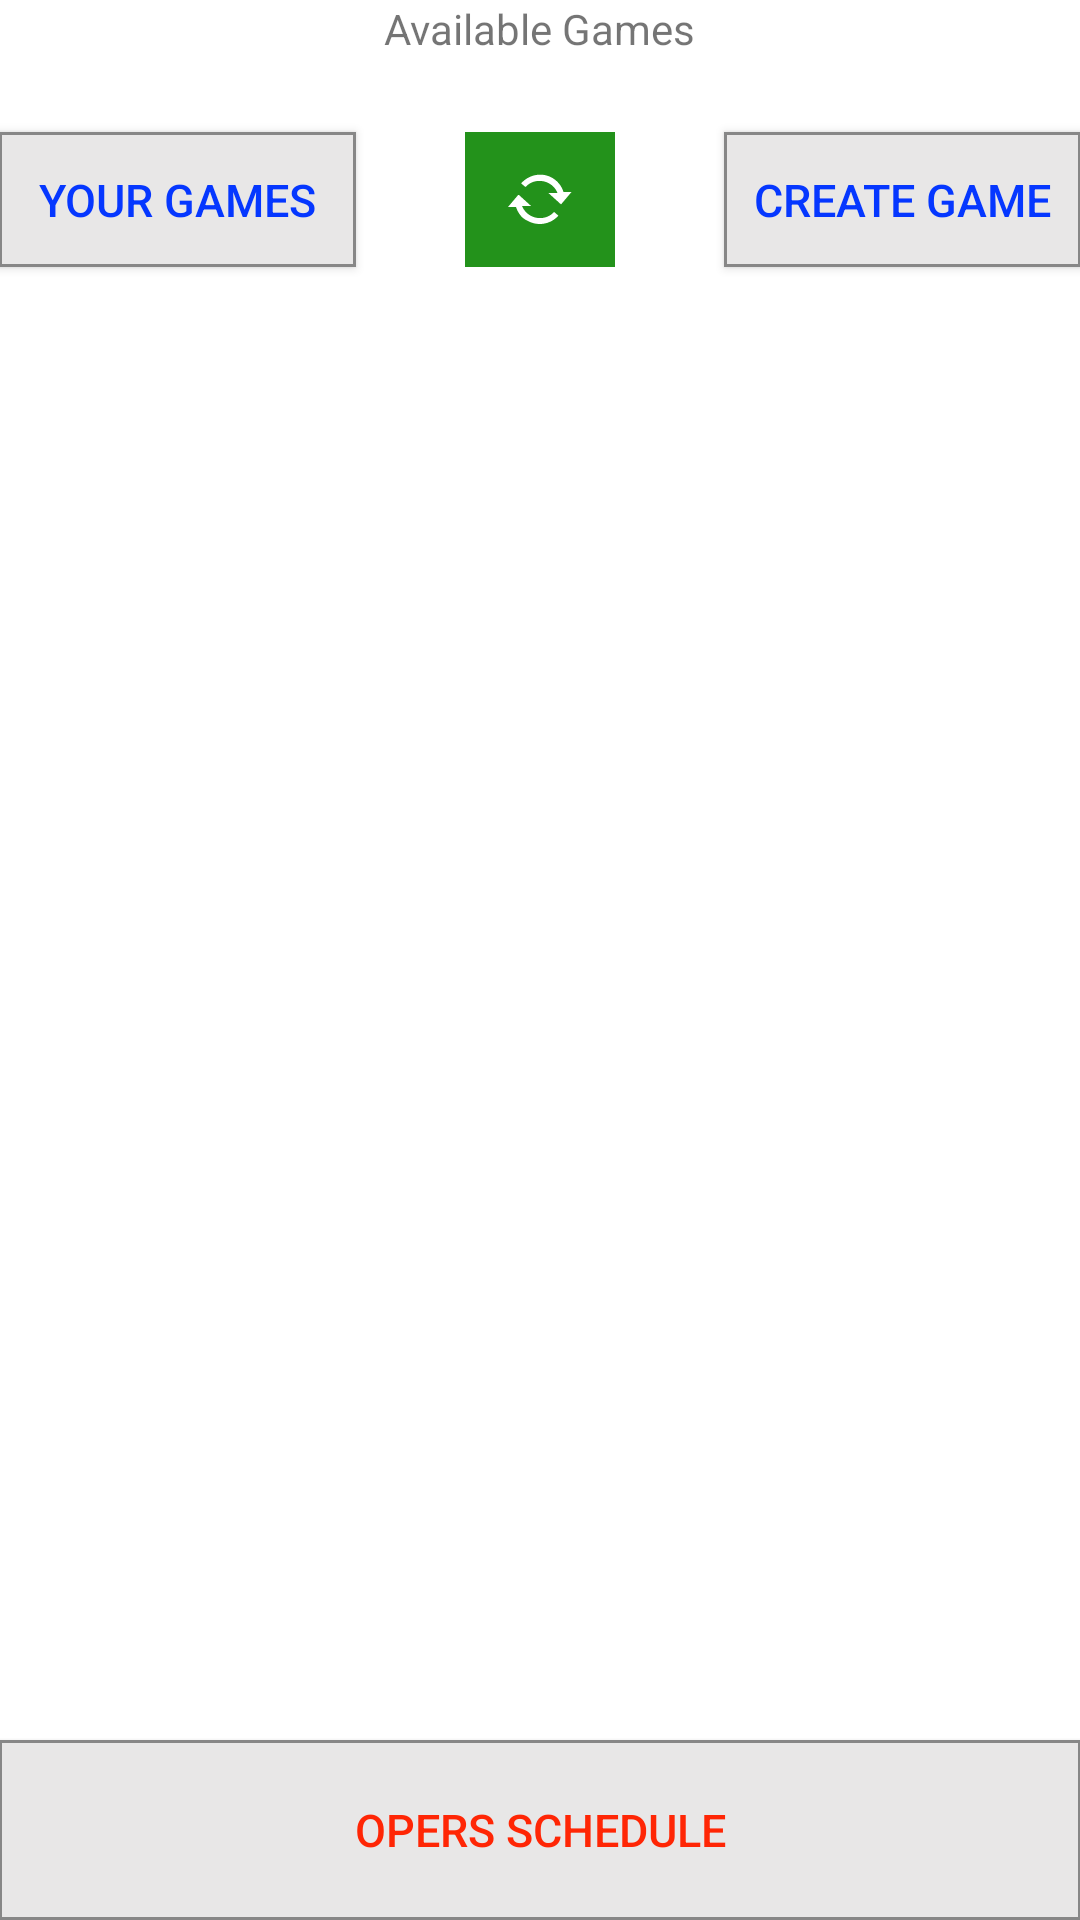

Named icons in this screenshot (1080 x 1920) and their centers, point (x, y):
sync: point (540, 199)
